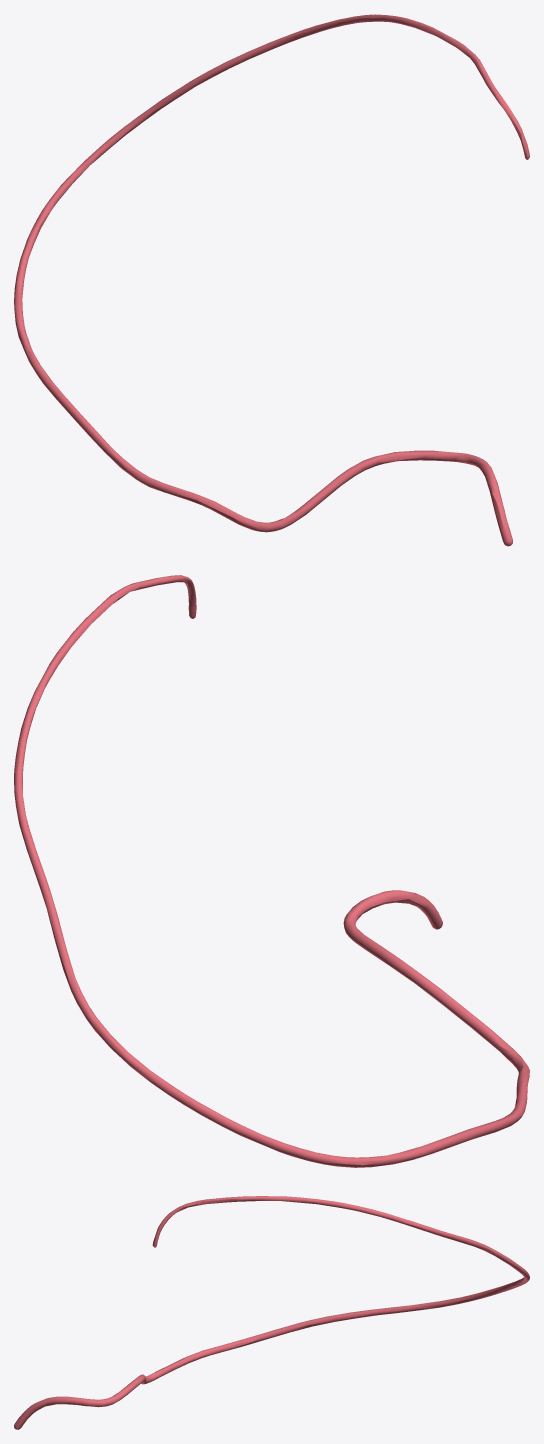
Rendered from fma76254_fj5022.glb.
3 renders of one model, top to bottom at view 1: azimuth 30°, elevation 25°; view 2: azimuth 150°, elevation 25°; view 3: azimuth 270°, elevation 25°, orthographic. The views are drawn at different scales.
Visible parts, largest first — view 1: FMA76254_FJ5022; view 2: FMA76254_FJ5022; view 3: FMA76254_FJ5022.
Part boxes in pixels (box(x1,y1,x2,y2)): FMA76254_FJ5022: box(14, 14, 529, 546); FMA76254_FJ5022: box(14, 575, 529, 1167); FMA76254_FJ5022: box(14, 1196, 529, 1429).
Size of the model in its own units: 0.0301 by 0.0314 by 0.0518.
